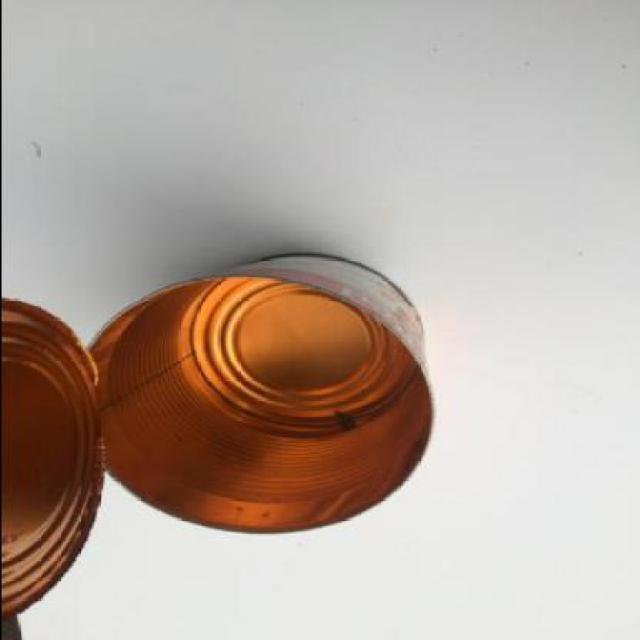METAL: (0, 254, 434, 626), (83, 254, 431, 537), (2, 300, 98, 628)
